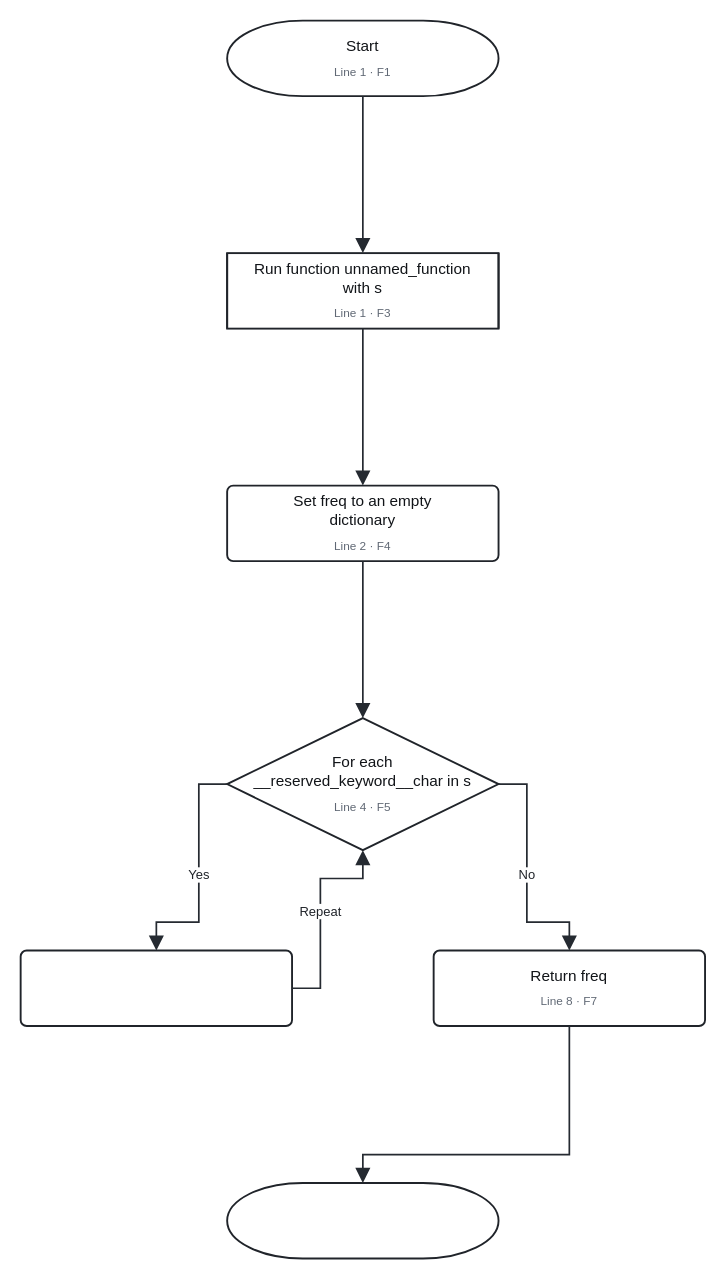
Image size: 727x1280. Some labels were removed from this diagram. Here are the shapes that lost their labels. From the top down, the centre of each, then its label:
At (155,987): "Set item __reserved_keyword__char of freq to the result of Line 5 · F6".
At (362,1220): "End Line 1 · F2".
